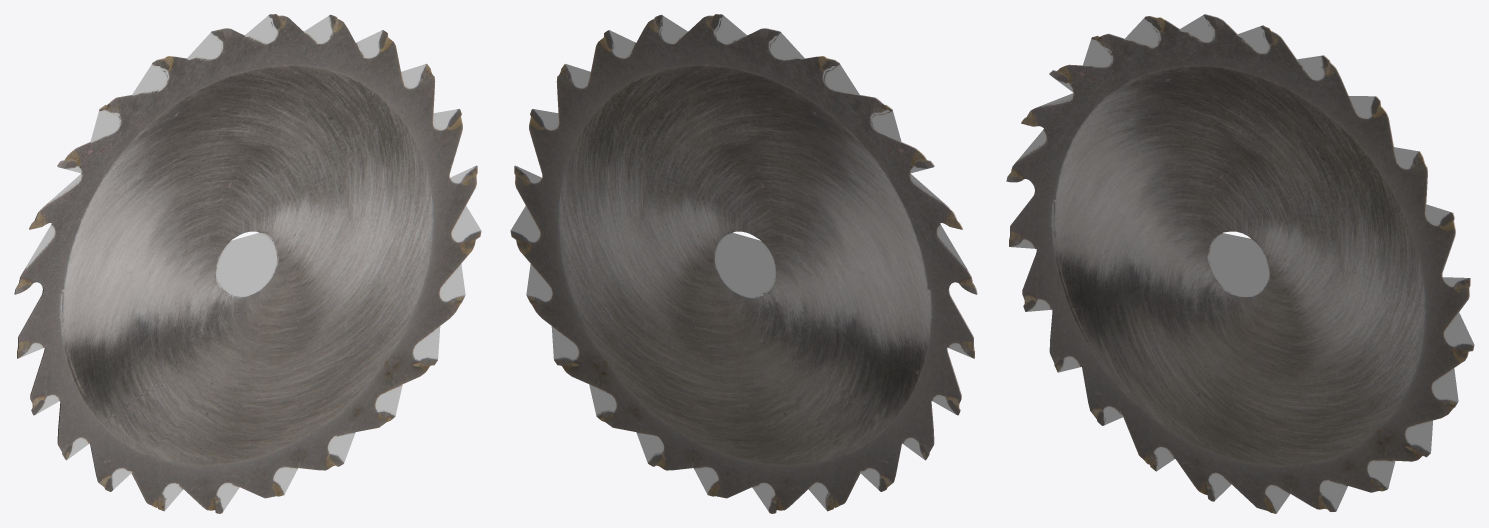
Rendered from CircularSaw.fbx.
The picture shows the model from 3 angles, left to right: view 1: azimuth 30°, elevation 25°; view 2: azimuth 150°, elevation 25°; view 3: azimuth 330°, elevation 25°; orthographic projection.
Visible parts, largest first — view 1: Plane; view 2: Plane; view 3: Plane.
Boxes of the visible parts, box(x1,y1,x2,y2) form: Plane: box(14, 14, 481, 513); Plane: box(510, 14, 977, 513); Plane: box(1006, 14, 1474, 513).
Bounding box in the file's own units: 481 × 480 × 1.26.
1 material, 1 textured.
